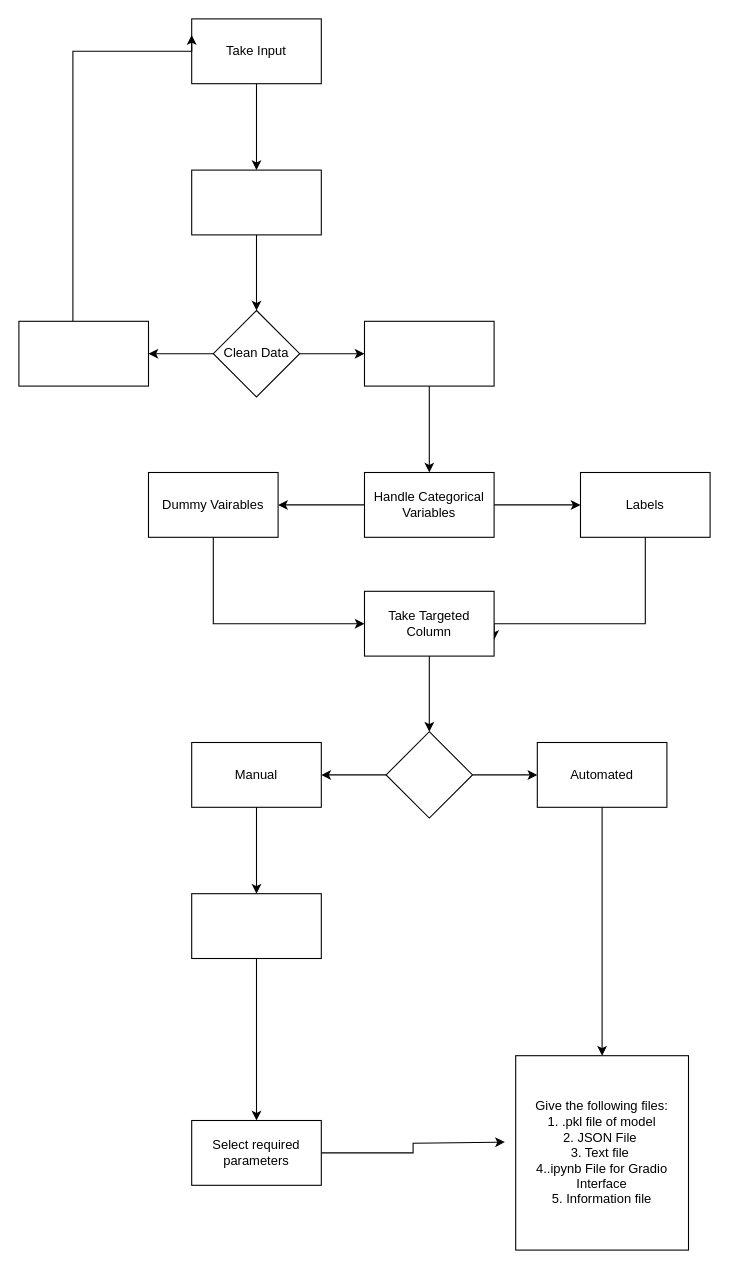
The diagram is 729 pixels wide and 1269 high, and some of its shapes have lost their labels. Here are the shapes that lost their labels. From the top down, the centre of each, then its label:
the point at 256,202: Give EDA Report
the point at 83,353: No
the point at 428,353: Yes
the point at 429,774: Select Mode
the point at 256,926: Select type of task - Classification or Regression
